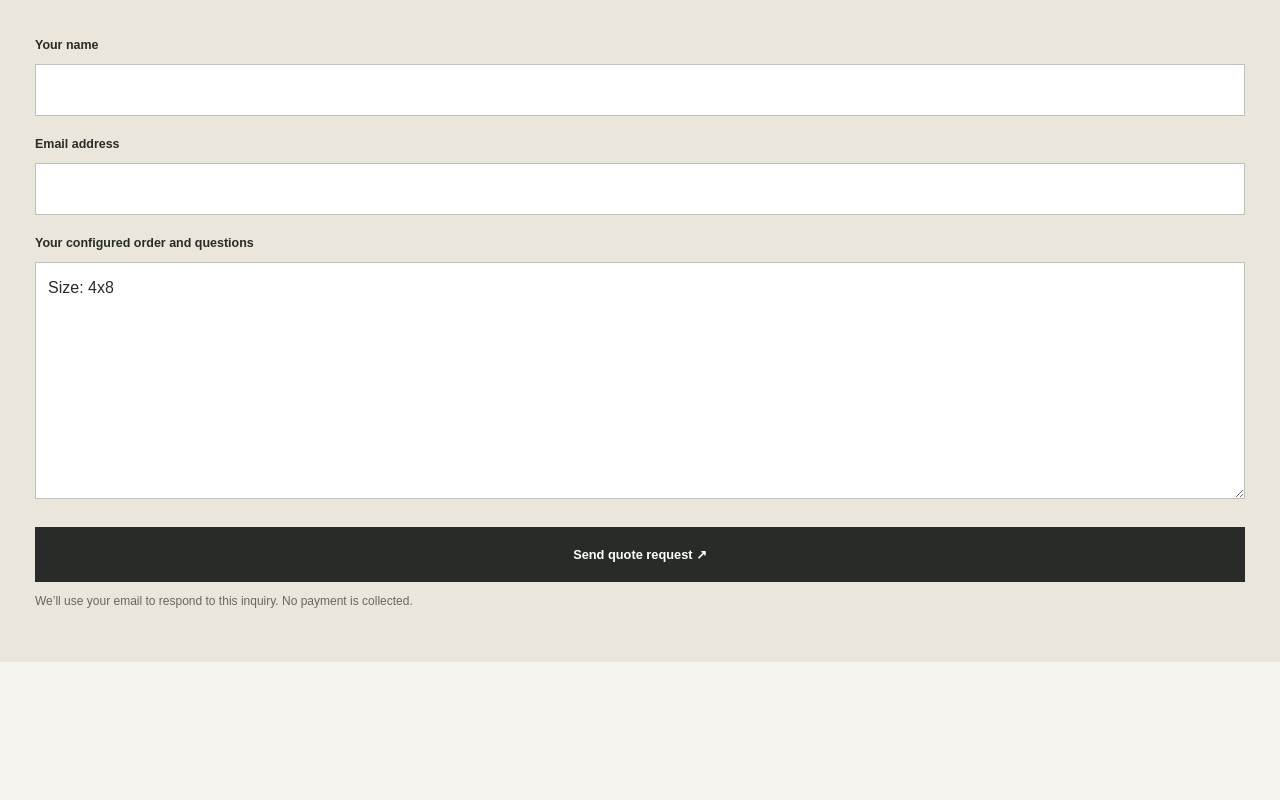
Test: failed delivery preserves the inquiry and offers direct email
Type "Trade Buyer" into the field labelled "Your name".
click(640, 90); type("Trade Buyer")  # box [35,64,1245,116]
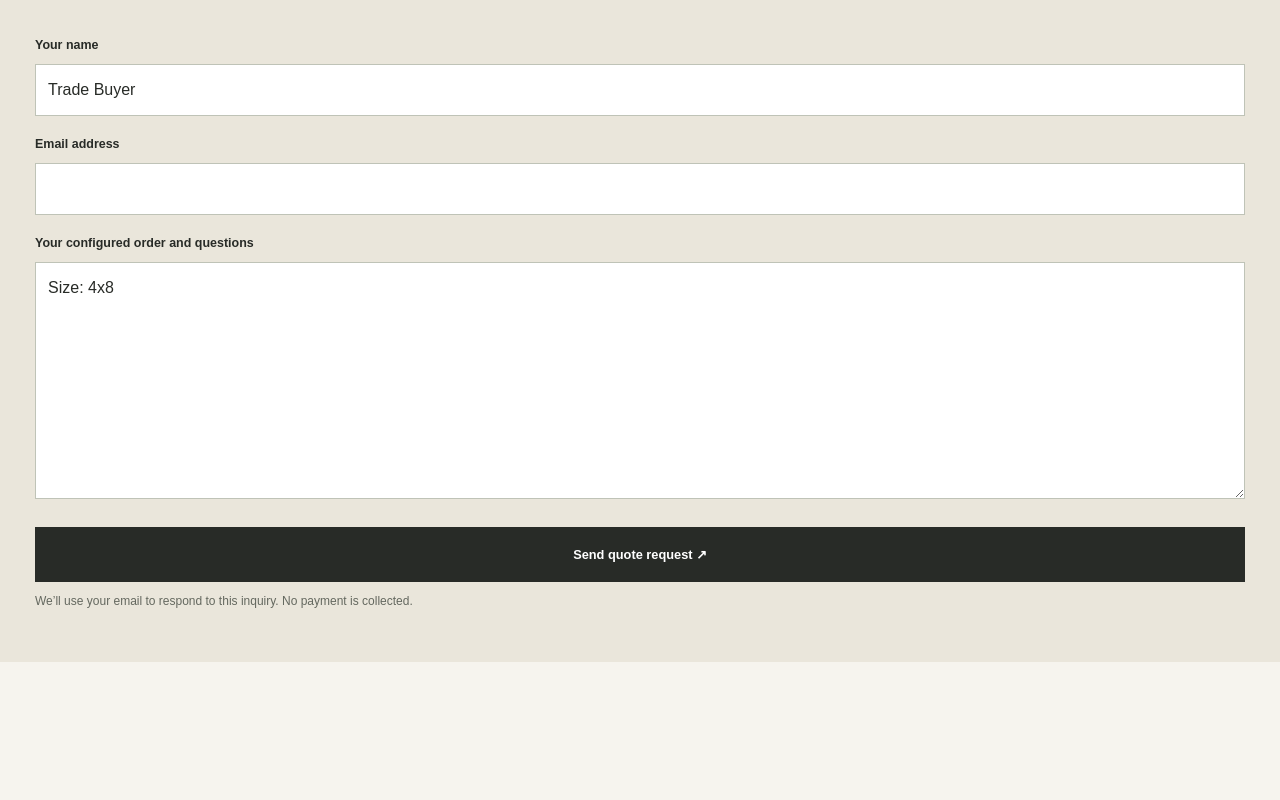
Type "buyer@example.com" into the field labelled "Email address".
click(640, 189); type("buyer@example.com")  # box [35,163,1245,215]
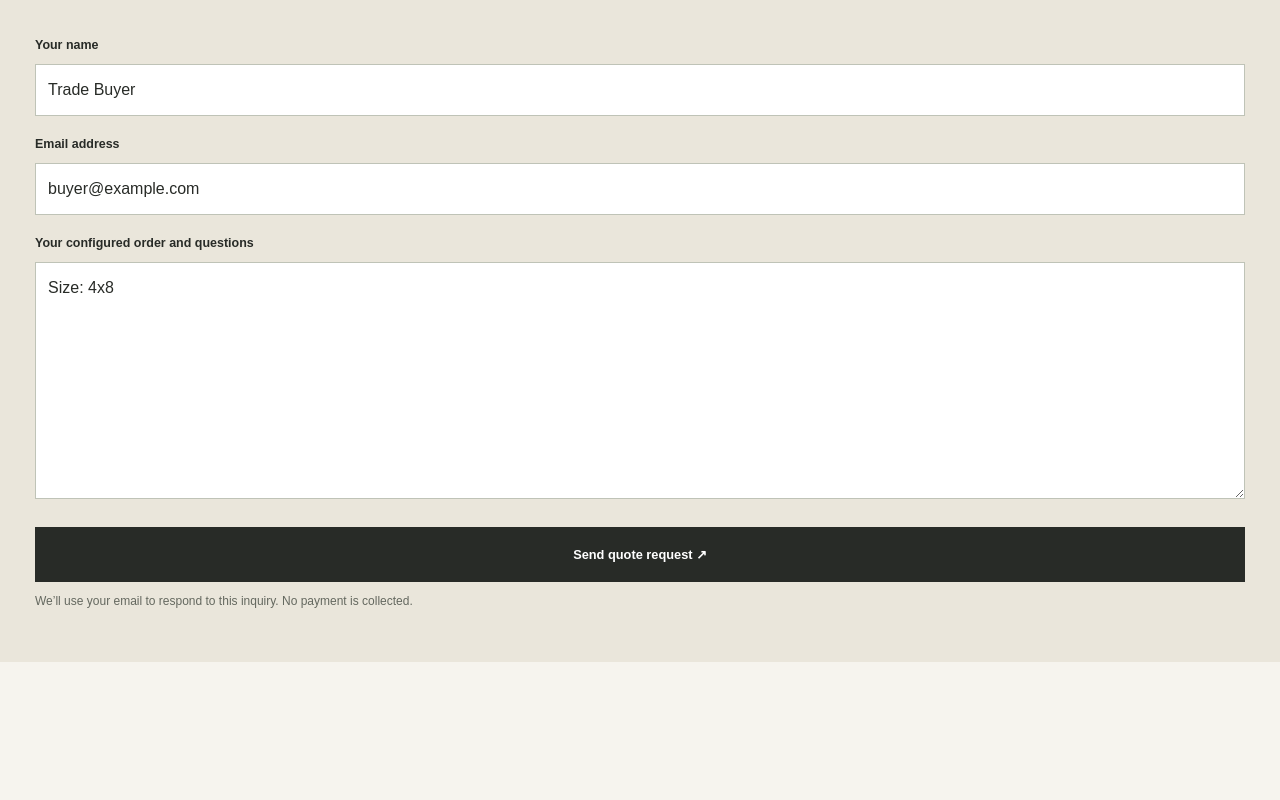
Click the button "Send quote request ↗".
click(640, 555)  # box [35,527,1245,582]
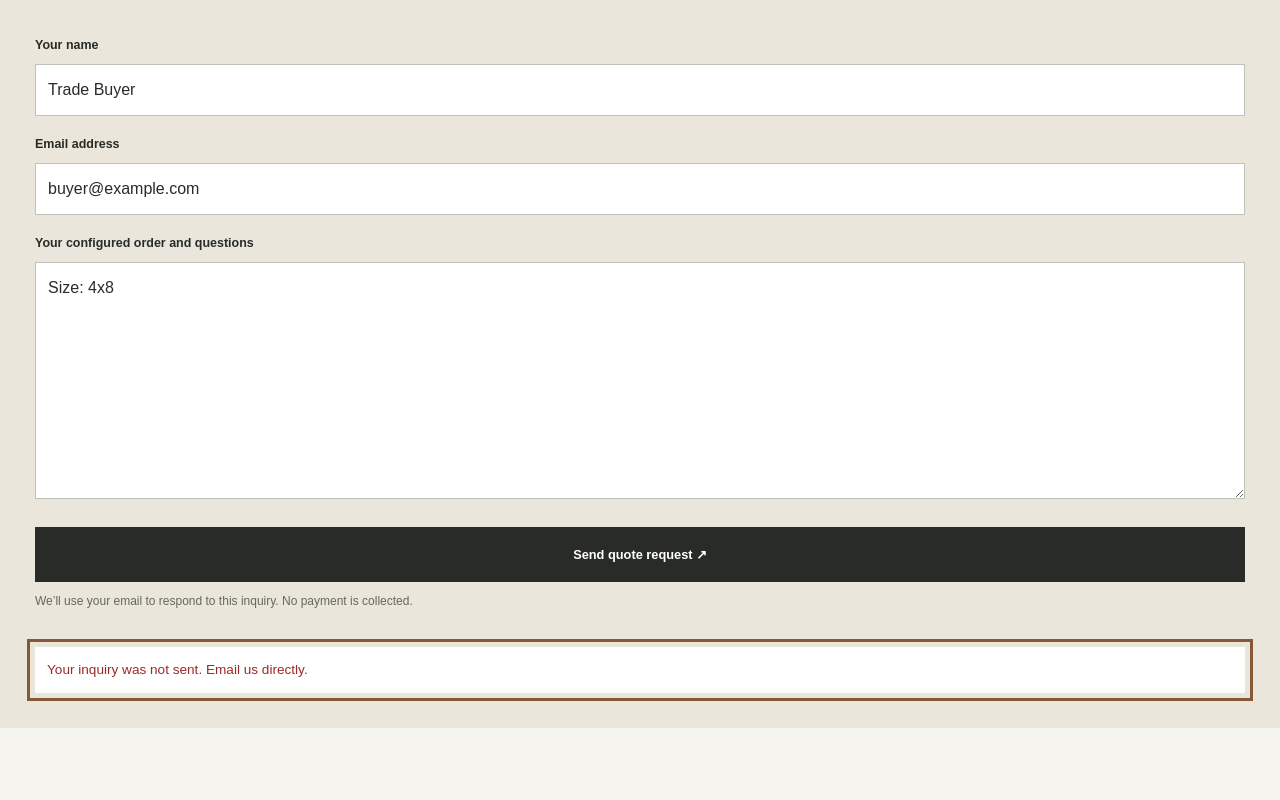
Expected: the text box labelled "Your configured order and questions" holds "Size: 4x8", [35,262,1245,499]
Now the message shows "not sent", box [47,662,202,677]
